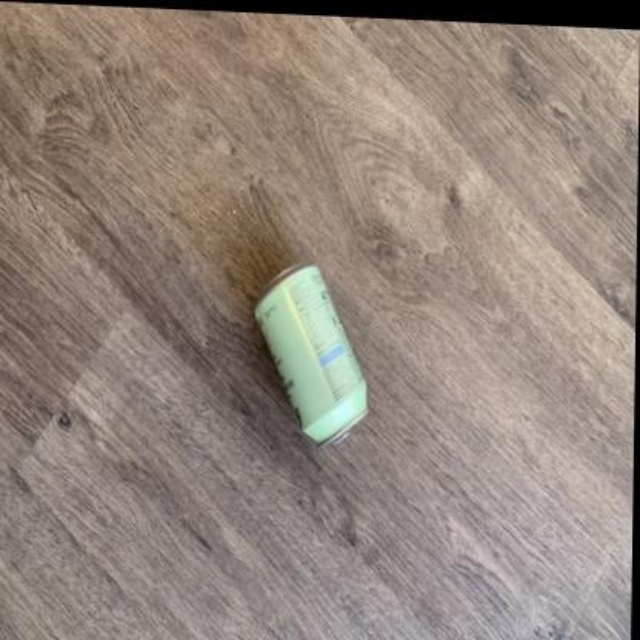trash: (255, 265, 366, 442)
